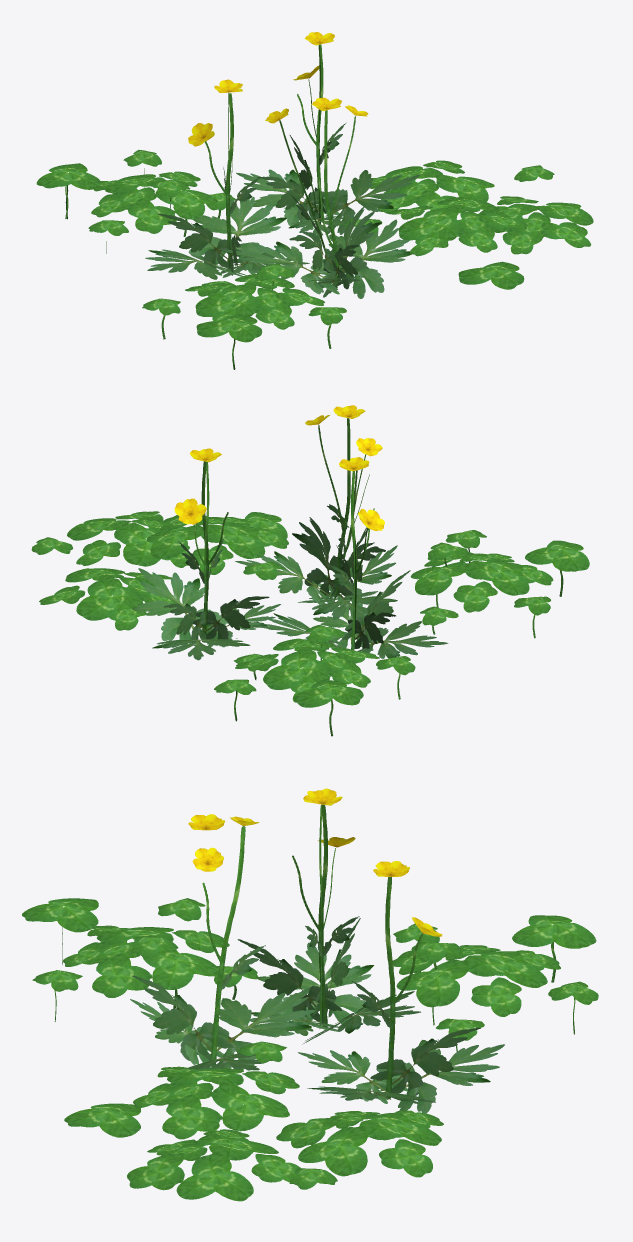
File: ButterCup_Clover.fbx
3 renders of one model, top to bottom at view 1: azimuth 30°, elevation 25°; view 2: azimuth 150°, elevation 25°; view 3: azimuth 270°, elevation 25°, orthographic. The views are drawn at different scales.
Visible parts, largest first — view 1: ButterCup_Clover; view 2: ButterCup_Clover; view 3: ButterCup_Clover.
Part boxes in pixels (left/top/right/bottom): ButterCup_Clover: left=36, top=32, right=593, bottom=369; ButterCup_Clover: left=31, top=405, right=589, bottom=736; ButterCup_Clover: left=22, top=788, right=598, bottom=1201.
Size of the model in its own units: 104 by 87.21 by 39.1.
